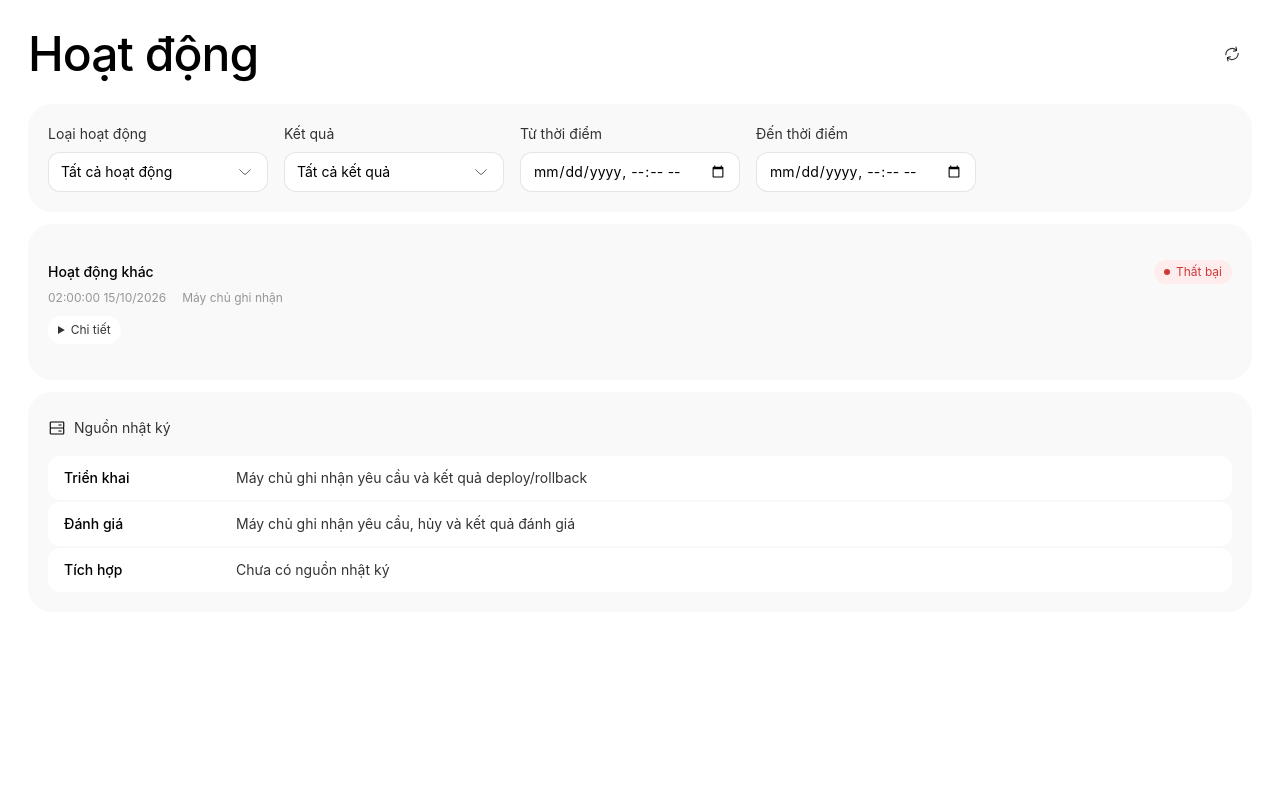
Test: WorkspaceActivity › labels server records separately, preserves unknown event types and system actors
The width and height of the screenshot is (1280, 800).
Expected: the text "Máy chủ ghi nhận" is shown, x1=182 y1=288 x2=283 y2=308
Expected: the text "Thất bại" is shown, x1=1154 y1=260 x2=1232 y2=284
Click the heading "Chi tiết": (84, 330) x1=48 y1=316 x2=121 y2=344
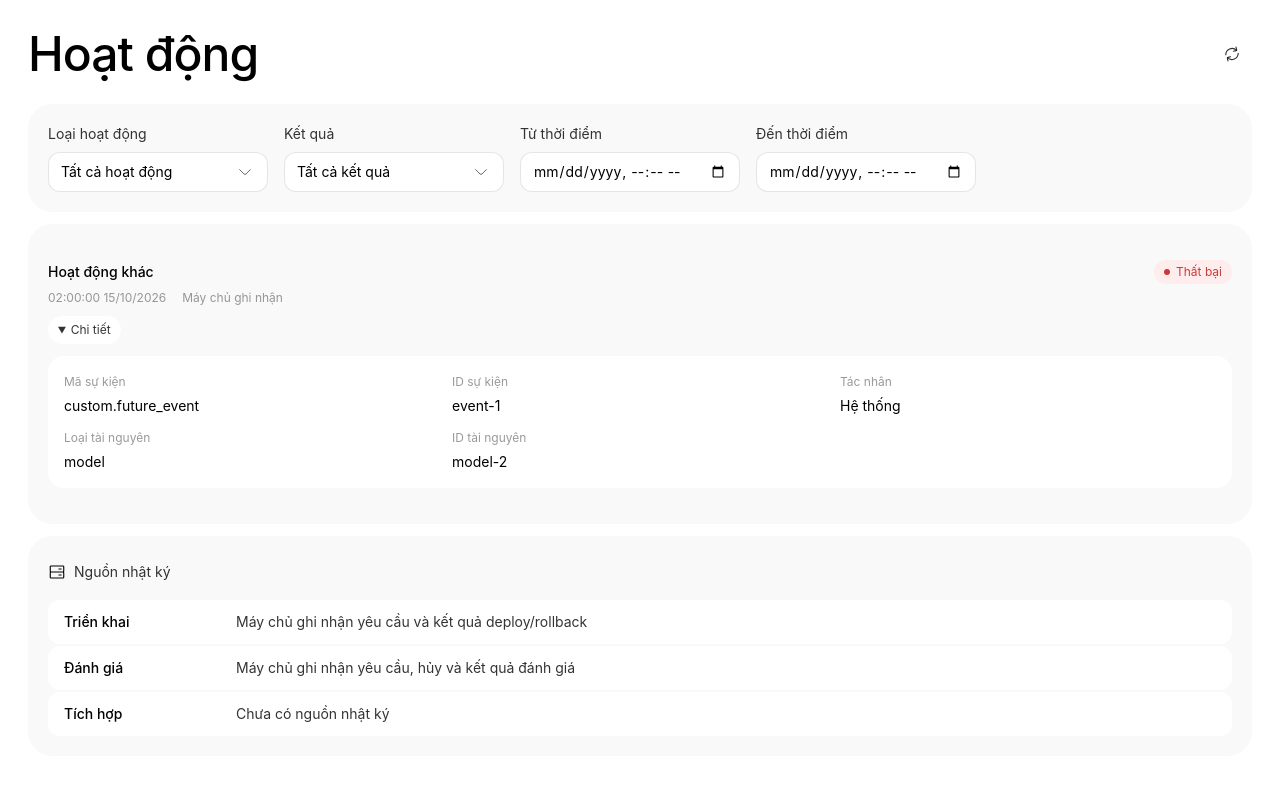
Now the text "Hệ thống" is shown, box x1=840 y1=397 x2=901 y2=414
